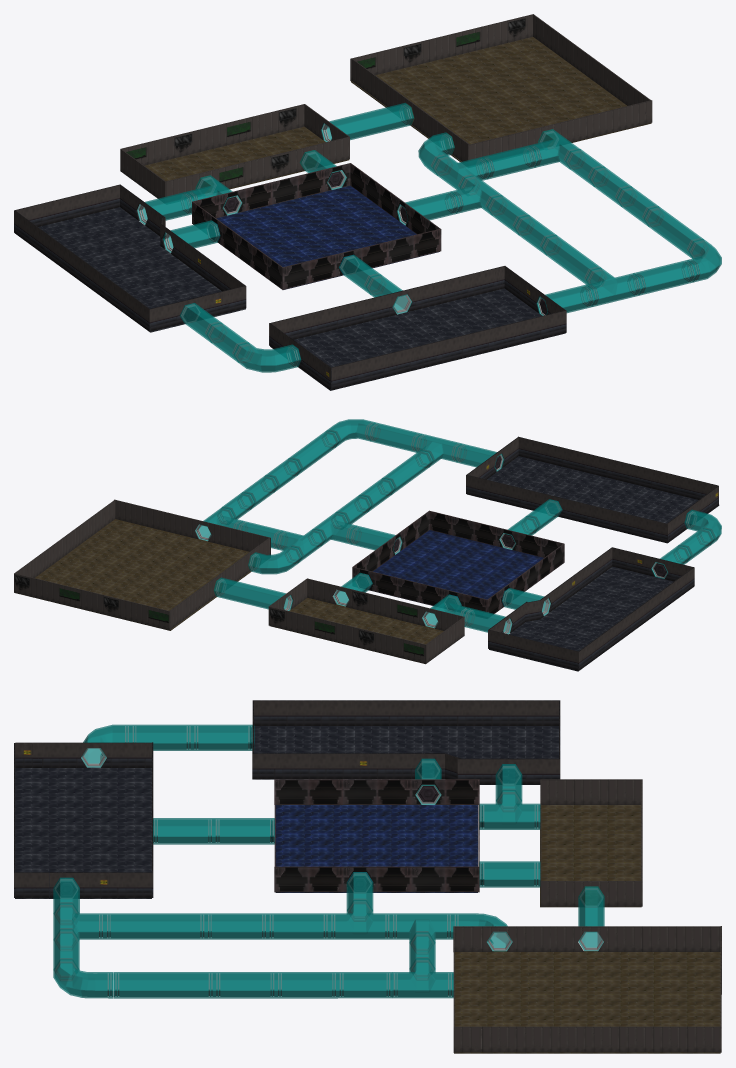
3 renders of one model, top to bottom at view 1: azimuth 30°, elevation 25°; view 2: azimuth 150°, elevation 25°; view 3: azimuth 270°, elevation 25°, orthographic. The views are drawn at different scales.
Visible parts, largest first — view 1: labs; view 2: labs; view 3: labs.
Part boxes in pixels (<box>): labs: <box>14,14,721,390</box>; labs: <box>14,419,721,671</box>; labs: <box>14,700,721,1053</box>.
Size of the model in its own units: 257 by 9.59 by 235.
Materials: 13 (11 with a texture image).
